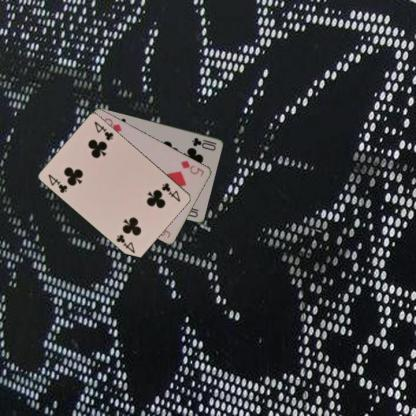10c: (189, 135, 218, 152)
4c: (159, 180, 182, 204), (46, 172, 69, 194)
5d: (178, 158, 206, 178)
